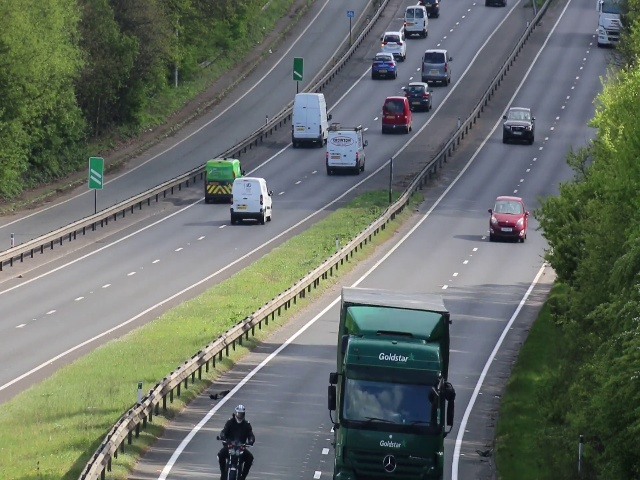car: (327, 332, 452, 480), (488, 194, 528, 243), (291, 91, 327, 144), (230, 177, 273, 221), (326, 129, 368, 172), (380, 95, 412, 135), (503, 105, 534, 144), (204, 161, 233, 199), (423, 47, 452, 84), (404, 7, 430, 37), (372, 54, 397, 79), (383, 30, 405, 52), (406, 82, 429, 101)
